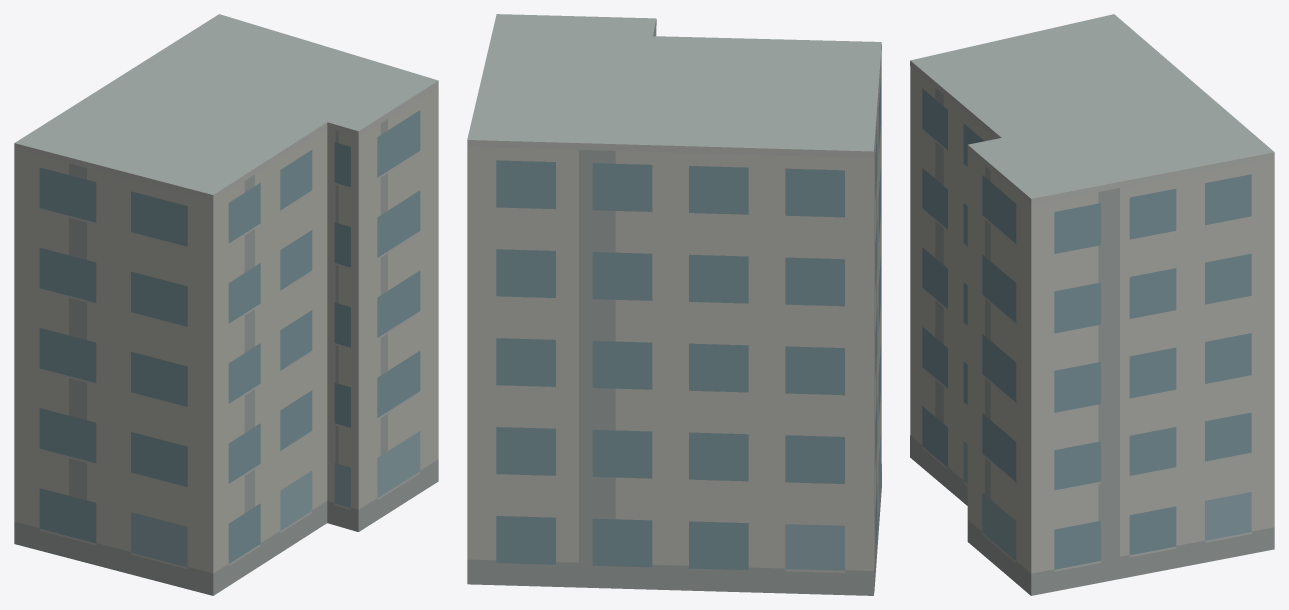
The model's file is survey-upis-32993447.glb.
3 views of the same model, side by side, from view 1: azimuth 30°, elevation 25°; view 2: azimuth 150°, elevation 25°; view 3: azimuth 270°, elevation 25° (orthographic). The views are drawn at different scales.
Visible parts, largest first — view 1: survey-upis-32993447.tmp; view 2: survey-upis-32993447.tmp; view 3: survey-upis-32993447.tmp.
Boxes of the visible parts, x1,y1,x2,y2 form: survey-upis-32993447.tmp: (14, 14, 438, 595); survey-upis-32993447.tmp: (467, 14, 881, 595); survey-upis-32993447.tmp: (910, 14, 1274, 595).
Size of the model in its own units: 15.98 by 16 by 13.32.
